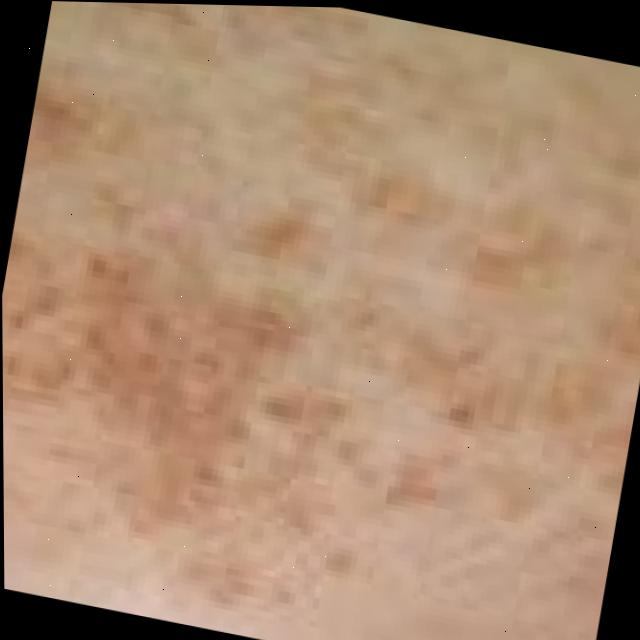Melasma: (0, 36, 609, 640)
